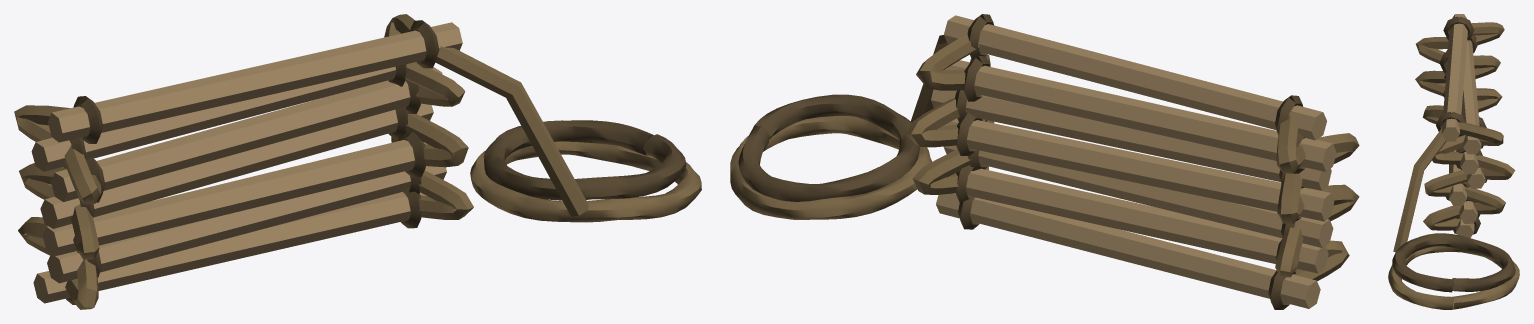
File: ladder.glb
The picture shows the model from 3 angles, left to right: view 1: azimuth 30°, elevation 25°; view 2: azimuth 150°, elevation 25°; view 3: azimuth 270°, elevation 25°; orthographic projection. The views are drawn at different scales.
Parts seen in each view (by area): view 1: ladder; view 2: ladder; view 3: ladder.
Part boxes in pixels (x1=…): ladder: x1=14, y1=14, x2=701, y2=309; ladder: x1=730, y1=14, x2=1359, y2=309; ladder: x1=1388, y1=14, x2=1519, y2=309.
Bounding box in the file's own units: 0.8029 × 0.2629 × 0.2458.
